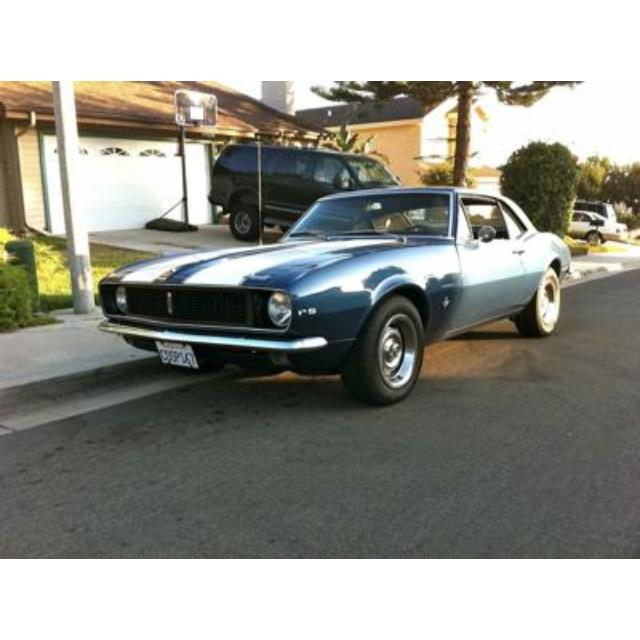car: (95, 184, 575, 406), (208, 144, 402, 242)
plate: (152, 340, 204, 374)
